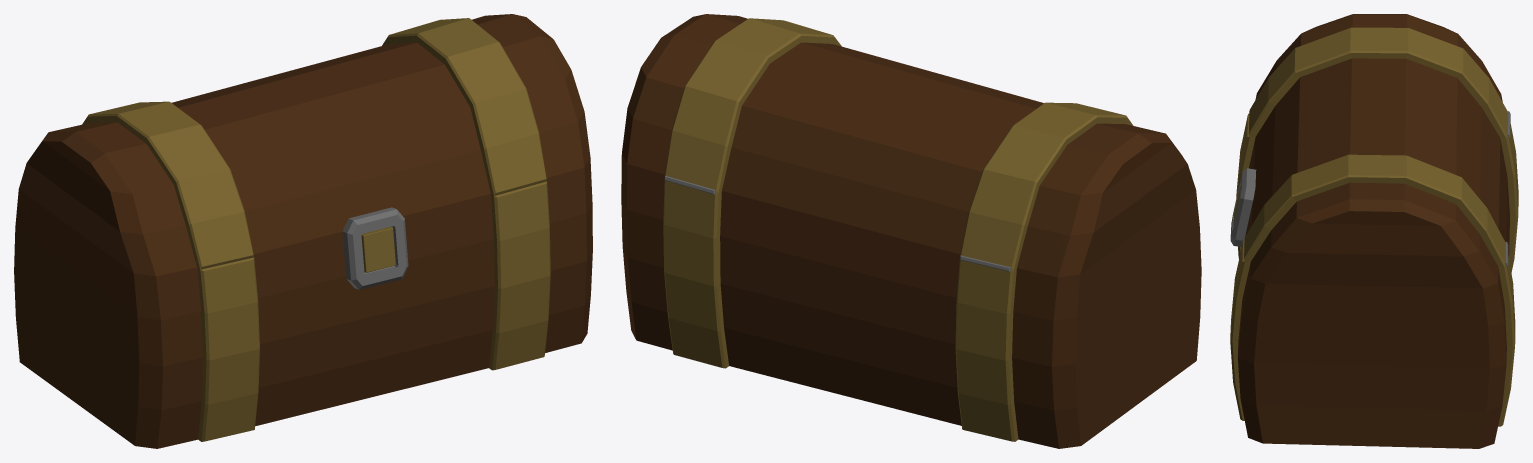
Rendered from Chest.fbx.
3 renders of one model, left to right at view 1: azimuth 30°, elevation 25°; view 2: azimuth 150°, elevation 25°; view 3: azimuth 270°, elevation 25°, orthographic. The views are drawn at different scales.
Parts seen in each view (by area): view 1: Chest_Box, Chest_Cap, Chest_Badge; view 2: Chest_Box, Chest_Cap; view 3: Chest_Cap, Chest_Box, Chest_Badge.
Part boxes in pixels (<box>): Chest_Box: <box>14,157,592,448</box>; Chest_Cap: <box>19,14,590,276</box>; Chest_Badge: <box>342,207,408,289</box>; Chest_Box: <box>621,154,1201,448</box>; Chest_Cap: <box>622,14,1195,277</box>; Chest_Cap: <box>1244,14,1510,288</box>; Chest_Box: <box>1230,93,1518,448</box>; Chest_Badge: <box>1230,168,1256,246</box>.
Size of the model in its own units: 1.03 by 0.5814 by 0.5912.
